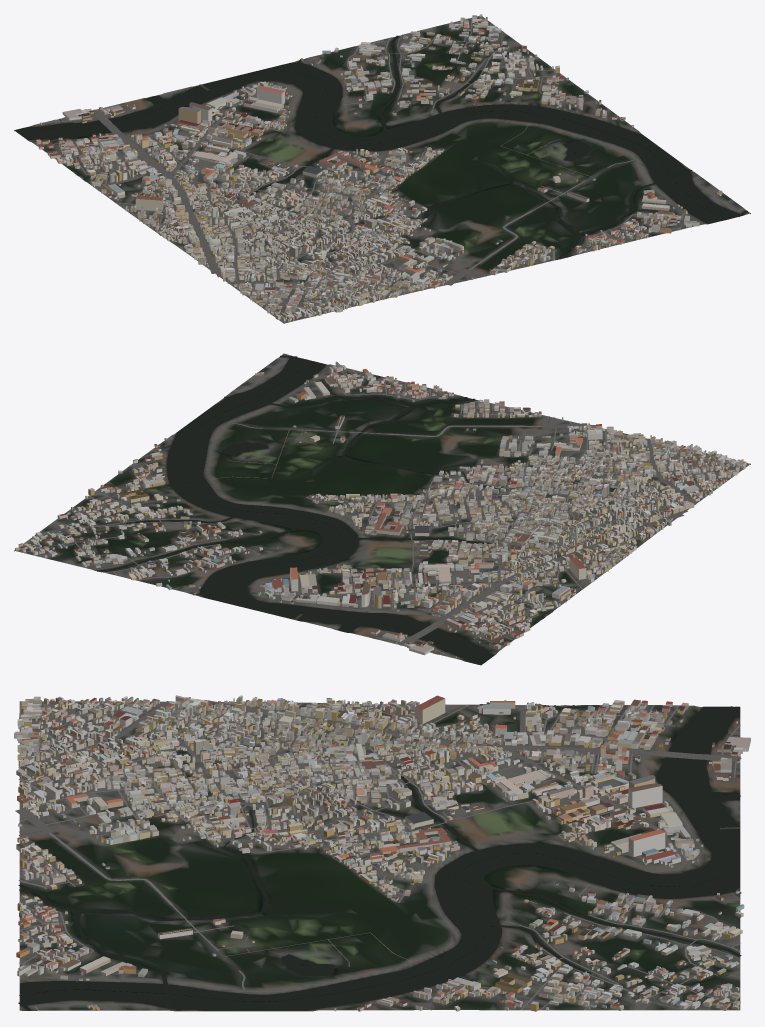
3 renders of one model, top to bottom at view 1: azimuth 30°, elevation 25°; view 2: azimuth 150°, elevation 25°; view 3: azimuth 270°, elevation 25°, orthographic. The views are drawn at different scales.
Visible parts, largest first — view 1: ground, buildings, water, roads; view 2: ground, buildings, water, roads; view 3: ground, buildings, water, roads.
Part boxes in pixels (x1,y1,x2,y2): ground: [14, 16, 750, 323]; buildings: [36, 14, 722, 321]; water: [15, 35, 747, 259]; roads: [37, 17, 743, 323]; ground: [14, 353, 750, 665]; buildings: [15, 361, 746, 658]; water: [96, 355, 550, 664]; roads: [18, 358, 750, 657]; ground: [19, 701, 740, 1011]; buildings: [14, 695, 750, 1011]; water: [18, 705, 741, 1010]; roads: [15, 700, 741, 1010].
Bounding box in the file's own units: 1415 × 42.19 × 1432.
